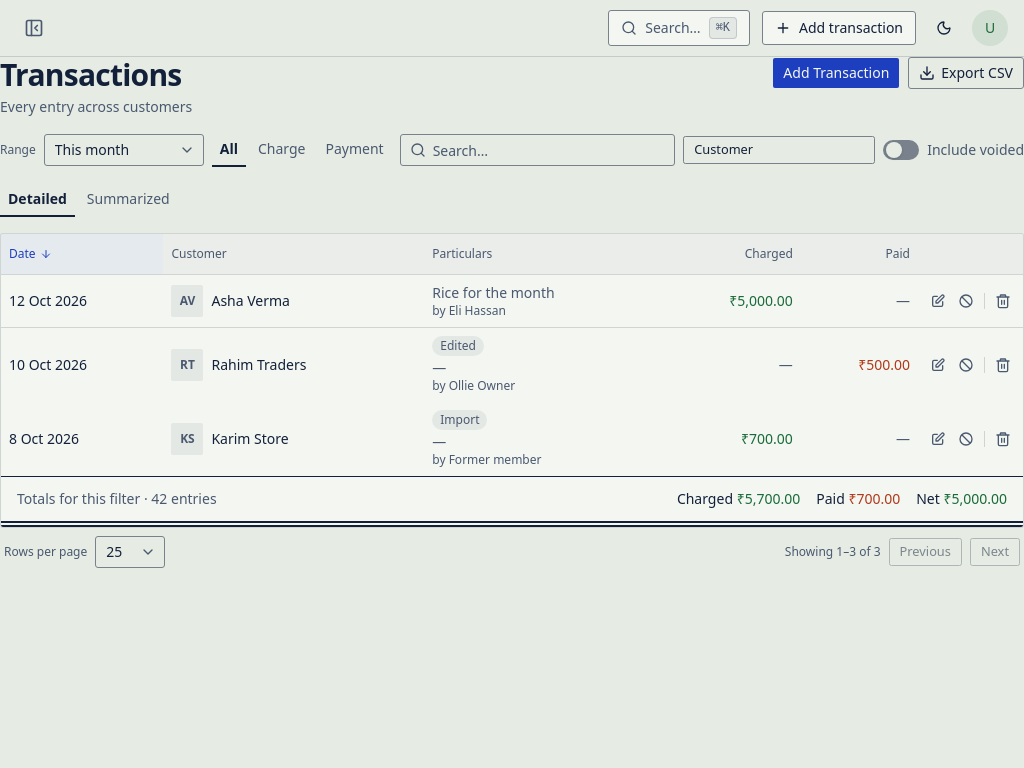
Test: S-35 transactions page v2 › the customer filter searches the feed, writes the URL and shows the live name
Click the button with aria-label "Filter by customer" at (779, 150), box [683, 136, 875, 164]
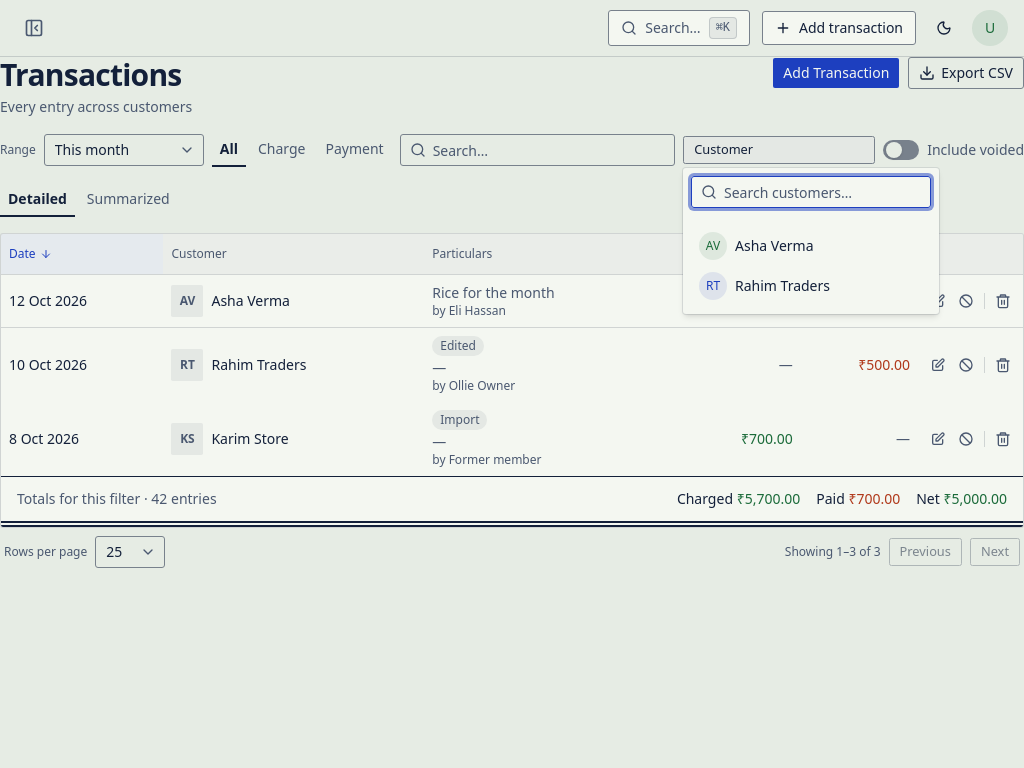
Type "Rah" into the search field labelled "Search customers" at (811, 192), box [691, 176, 931, 208]
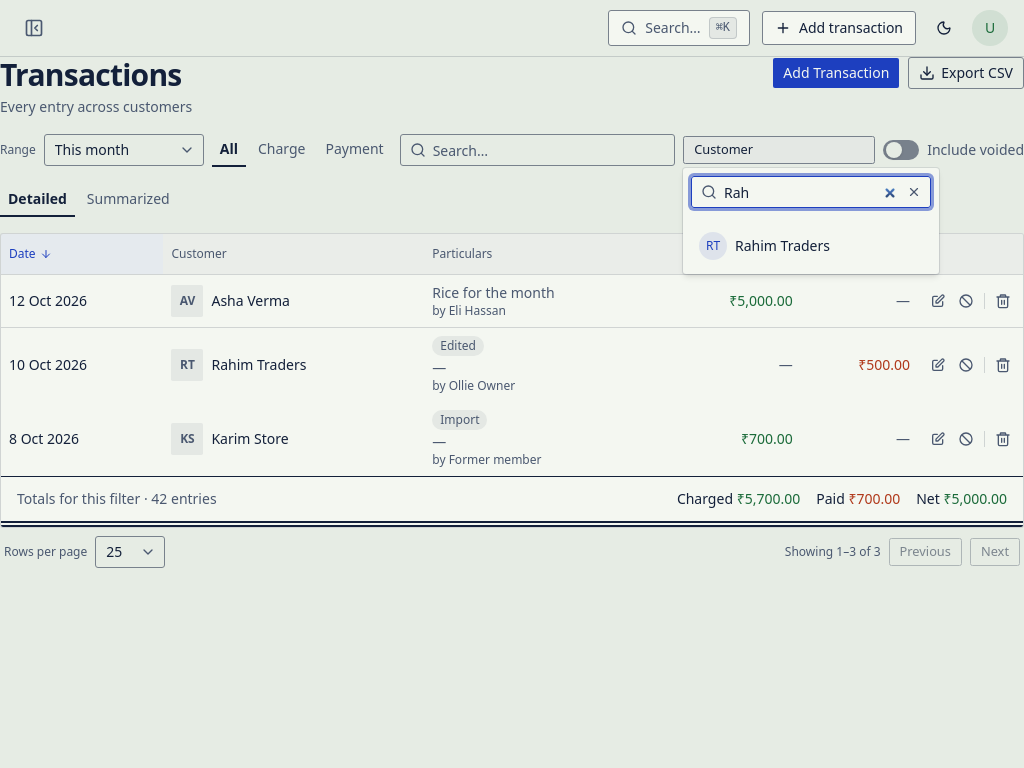
Click the button "RT Rahim Traders" at (811, 246), box [691, 226, 931, 266]
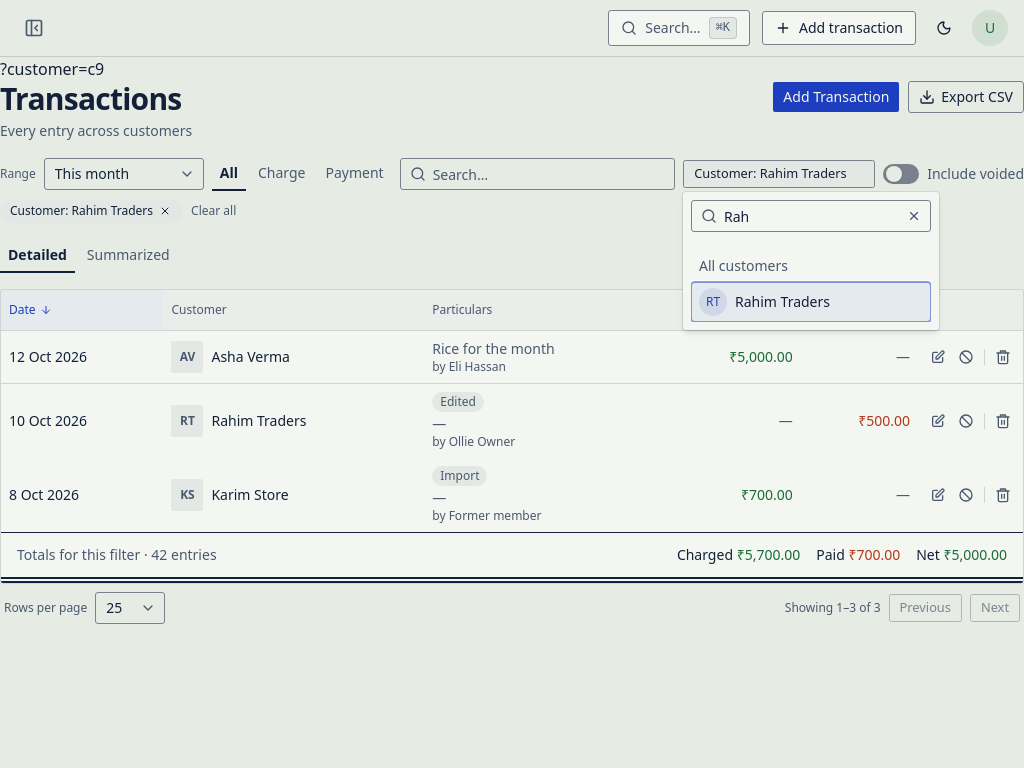
Expected: the button "Customer: Rahim Traders" is shown, [683, 160, 875, 188]
Expected: the text with test id "url" shows "customer=c9", [0, 58, 104, 80]
Note: Removing the chip widens the query again.
Click the button named "Remove filter Customer: Rahim Traders" at (165, 211), box [157, 203, 173, 219]
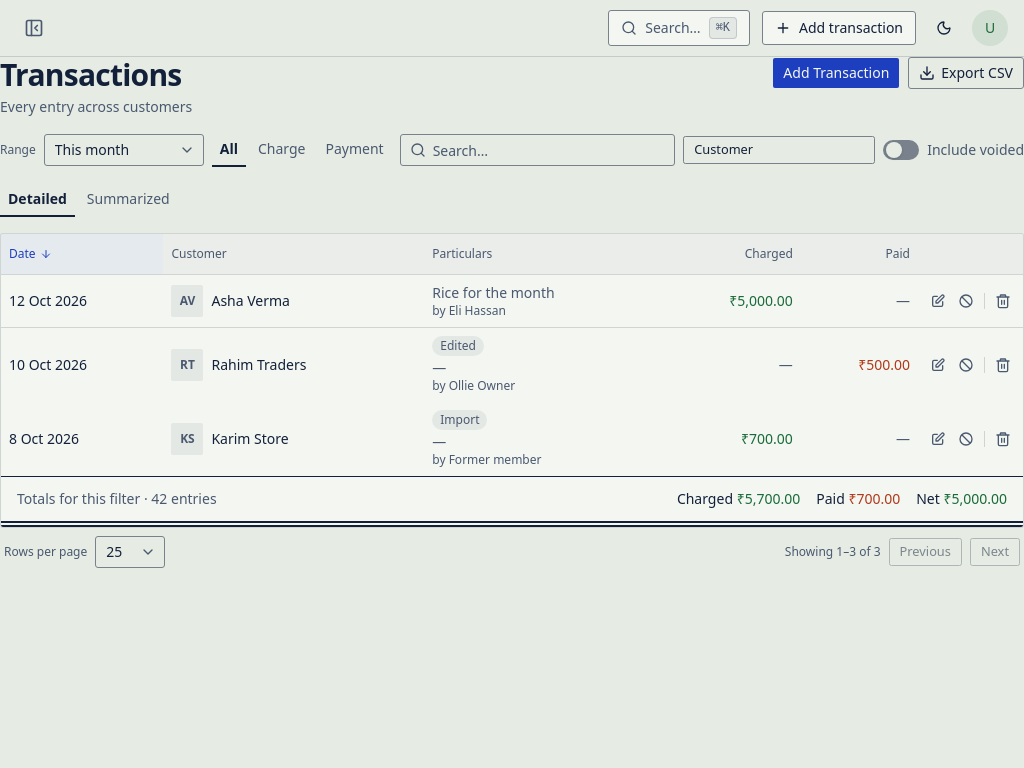
Expected: the button "Customer: Rahim" is gone
